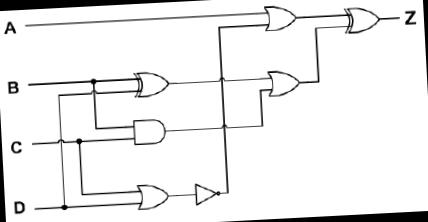and: (127, 114, 168, 148)
not: (191, 179, 222, 208)
or: (132, 178, 174, 217), (260, 1, 299, 38), (265, 66, 303, 101)
xor: (340, 0, 386, 40), (129, 67, 173, 101)
